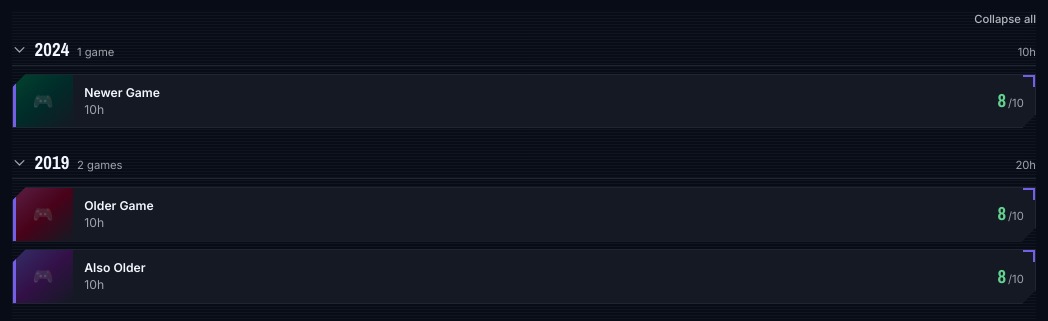
Test case: collapsing review groups › offers Show all once the last open group is closed by hand
What coordinates should you click on to do the following:
click the button "2024"
I would click on:
 (41, 50)
Its box is top-left (12, 38), bottom-right (70, 61).
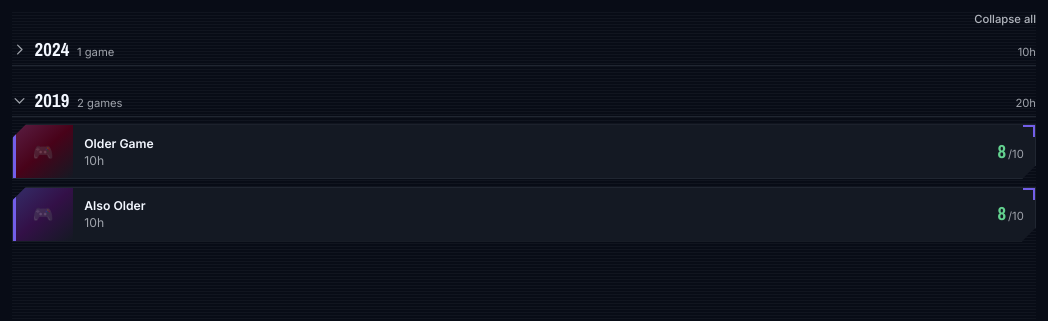
Expected: the button "Collapse all" is shown, top-left (974, 12), bottom-right (1036, 27)
What coordinates should you click on to do the following:
click the button "2019"
I would click on:
 (41, 100)
Its box is top-left (12, 89), bottom-right (70, 112).
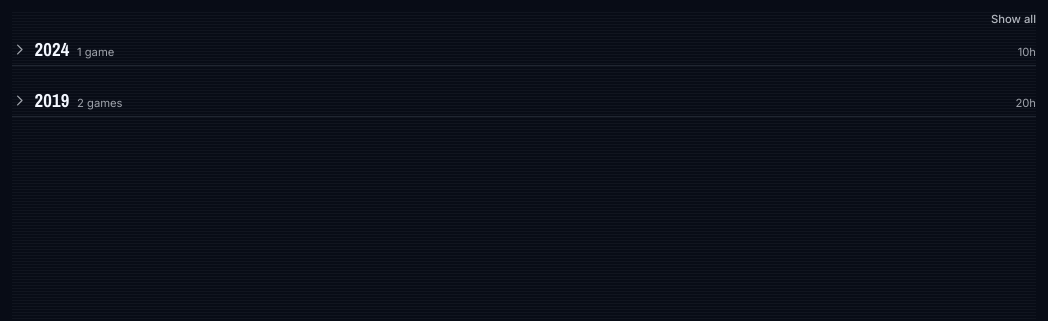
Expected: the button "Show all" is shown, top-left (991, 12), bottom-right (1036, 27)
